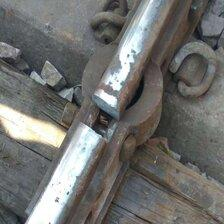railway-gap: (65, 86, 135, 159)
